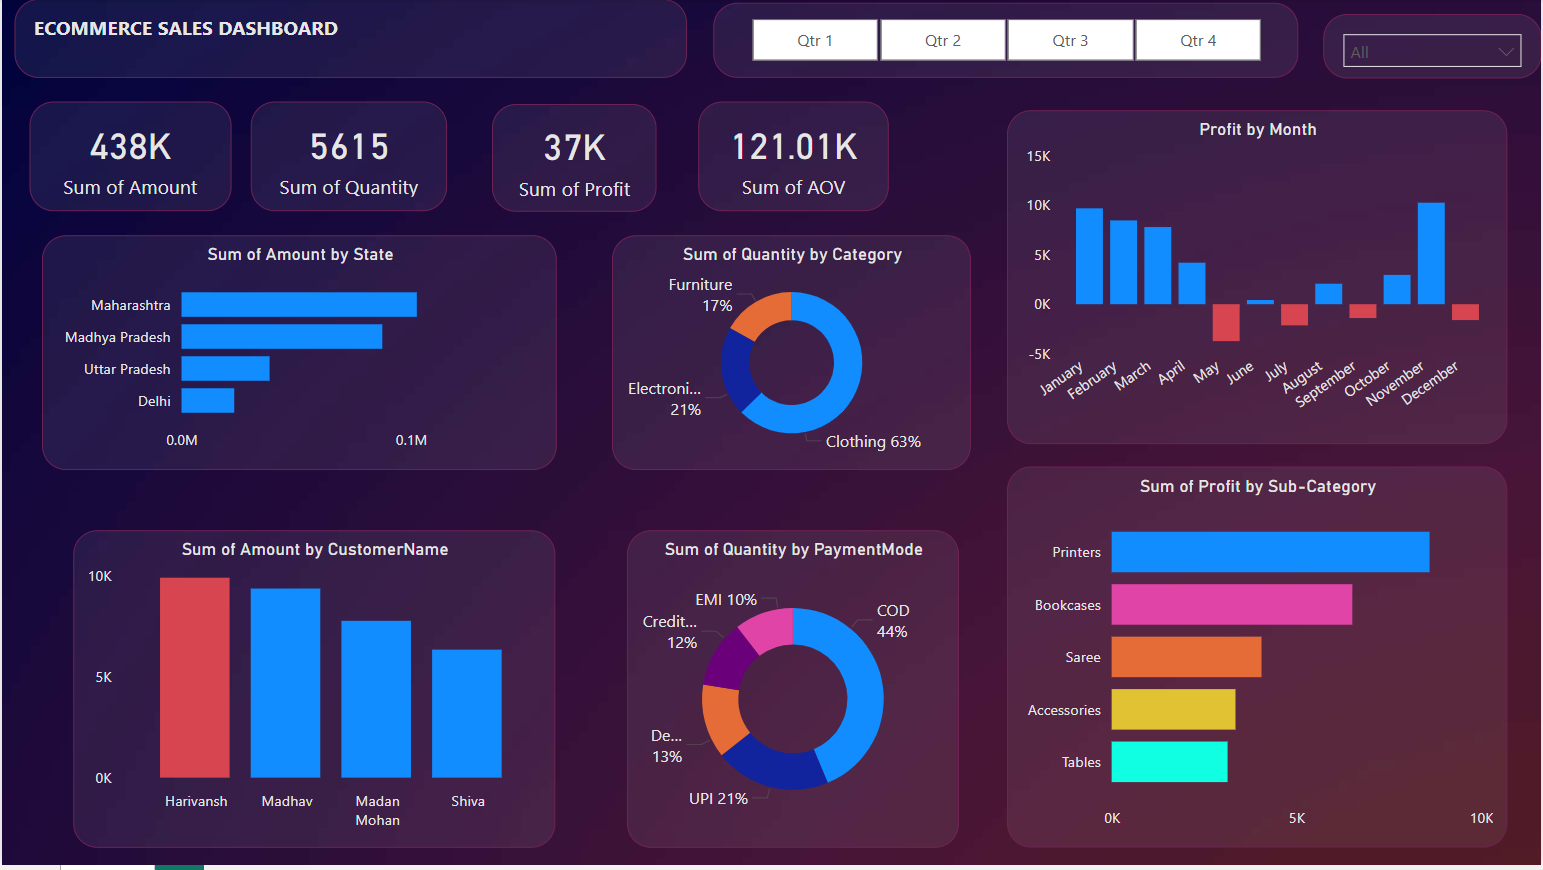

What the dashboard file says about the page in this screenshot:
{"tool":"powerbi","page":{"name":"Page 1","canvas":[1280,720],"ordinal":0},"visuals":[{"type":"textbox","box":[10.7,0,559.4,65.5],"z":0},{"type":"columnChart","title":"Profit by Month","fields":{"Category":["Orders.Order Date.Variation.Date Hierarchy.Month"],"Y":["Details.Profit"]},"box":[835.2,93,416.1,277.4],"z":1000},{"type":"barChart","fields":{"Category":["Details.Sub-Category"],"Y":["Details.Profit"]},"box":[835.2,388.7,416.1,317],"z":2000},{"type":"donutChart","fields":{"Y":["Details.Quantity"],"Category":["Details.PaymentMode"]},"box":[519.7,442,275.9,263.7],"z":3000},{"type":"donutChart","fields":{"Category":["Details.Category"],"Y":["Details.Quantity"]},"box":[507.6,196.6,298.7,195.1],"z":4000},{"type":"card","fields":{"Values":["Details.Amount"]},"box":[22.9,85.4,167.7,91.5],"z":5000},{"type":"card","fields":{"Values":["Details.Quantity"]},"box":[207.3,85.4,163.1,91.5],"z":6000},{"type":"card","fields":{"Values":["Details.Profit"]},"box":[407,86.9,137.2,89.9],"z":7000},{"type":"card","fields":{"Values":["Details.AOV"]},"box":[579.2,85.4,158.5,91.5],"z":8000},{"type":"barChart","fields":{"Category":["Orders.State"],"Y":["Details.Amount"]},"box":[33.5,196.6,428.3,195.1],"z":9000},{"type":"columnChart","fields":{"Y":["Details.Amount"],"Category":["Orders.CustomerName"]},"box":[59.4,442,400.9,263.7],"z":10000},{"type":"slicer","fields":{"Values":["Orders.Order Date.Variation.Date Hierarchy.Quarter"]},"box":[591.4,3,486.2,62.5],"z":11000},{"type":"slicer","fields":{"Values":["Orders.State"]},"box":[1098.9,12.2,181.4,53.3],"z":12000}]}

Visuals, with their boxes in screenshot pixels (x1, y1, x2, y2), scaled from the page's 1280x720 canvas onto the 1543x870 screenshot:
textbox: Rect(13, 0, 687, 79)
"Profit by Month" columnChart: Rect(1007, 112, 1508, 448)
barChart - Details.Sub-Category x Details.Profit: Rect(1007, 470, 1508, 853)
donutChart - Details.Quantity x Details.PaymentMode: Rect(626, 534, 959, 853)
donutChart - Details.Category x Details.Quantity: Rect(612, 238, 972, 473)
card - Details.Amount: Rect(28, 103, 230, 214)
card - Details.Quantity: Rect(250, 103, 447, 214)
card - Details.Profit: Rect(491, 105, 656, 214)
card - Details.AOV: Rect(698, 103, 889, 214)
barChart - Orders.State x Details.Amount: Rect(40, 238, 557, 473)
columnChart - Details.Amount x Orders.CustomerName: Rect(72, 534, 555, 853)
slicer - Orders.Order Date.Variation.Date Hierarchy.Quarter: Rect(713, 4, 1299, 79)
slicer - Orders.State: Rect(1325, 15, 1542, 79)
